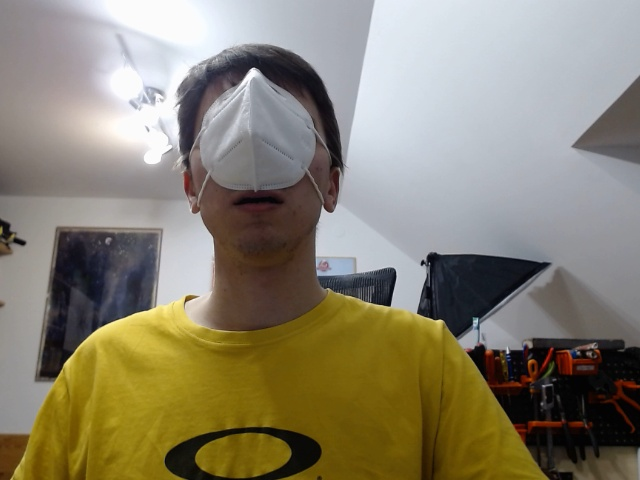WrongMask: (172, 43, 347, 277)
